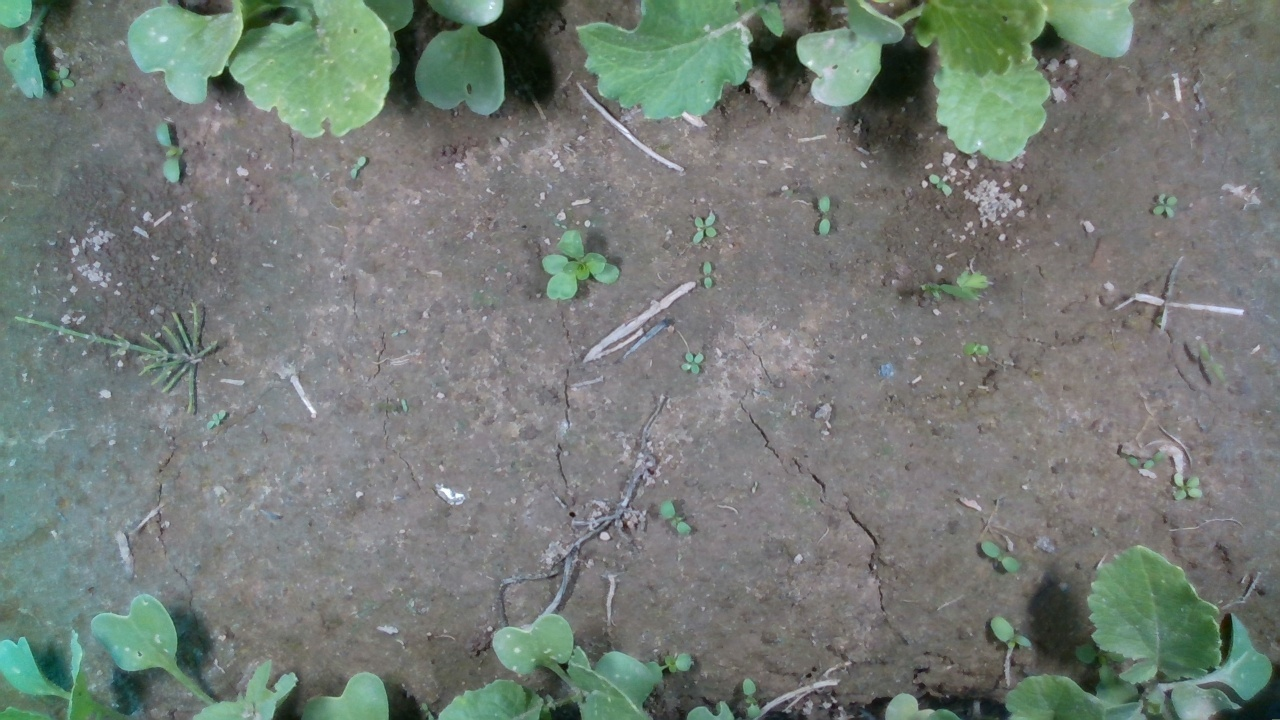weed: (155, 121, 183, 184), (988, 615, 1032, 651), (1197, 336, 1225, 384), (980, 540, 1020, 573), (656, 499, 691, 536), (690, 212, 718, 244), (1173, 473, 1203, 502), (741, 677, 761, 719), (45, 65, 74, 91), (1152, 192, 1177, 219), (816, 195, 832, 236), (679, 352, 705, 375), (928, 173, 952, 197), (349, 154, 367, 180), (1144, 450, 1165, 470), (700, 259, 713, 290)
